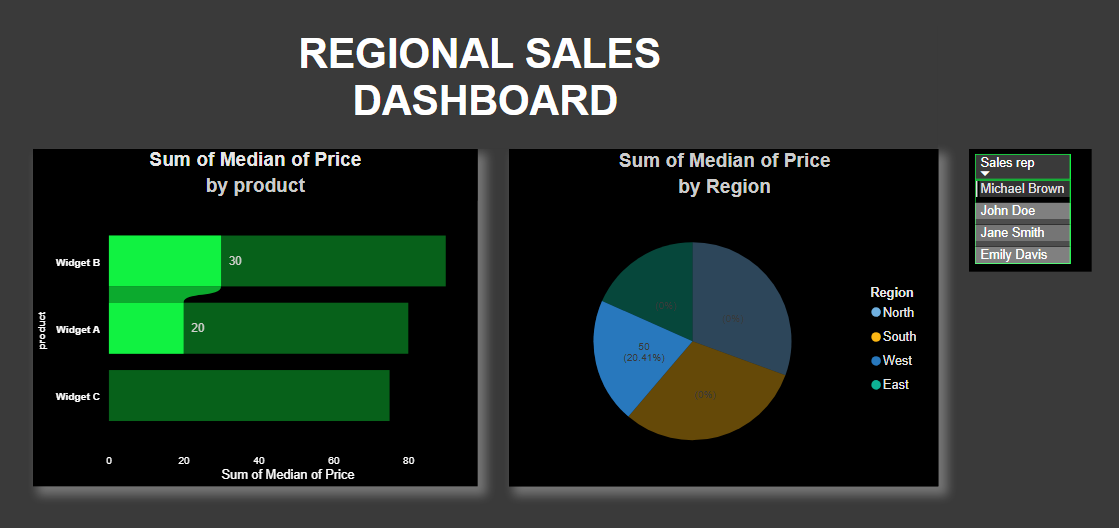

This screenshot's page, from the dashboard's own definition file:
{"tool":"powerbi","page":{"name":"Page 1","canvas":[1280,720],"ordinal":0},"visuals":[{"type":"pieChart","fields":{"Y":["Sum(Median of Price by Region and product.Median of Price)"],"Category":["Median of Price by Region and product.Region"]},"box":[608,192,448,352],"z":1},{"type":"barChart","fields":{"Y":["Sum(Median of Price by Region and product.Median of Price)"],"Category":["Median of Price by Region and product.product"]},"box":[112,192,464,352],"z":2},{"type":"tableEx","fields":{"Values":["Median of Price by Region and product.Sales rep"]},"box":[1088,192,128,128],"z":3},{"type":"textbox","box":[112,64,944,128],"z":4}]}

Visuals, with their boxes on the page's 1280x720 design canvas (x1, y1, x2, y2). These are canvas units, not pixel positions in the 1119x528 screenshot, which may show the page scaled, cropped or inside an application window:
pieChart - Sum(Median of Price by Region and product.Median of Price) x Median of Price by Region and product.Region: {"left": 608, "top": 192, "right": 1056, "bottom": 544}
barChart - Sum(Median of Price by Region and product.Median of Price) x Median of Price by Region and product.product: {"left": 112, "top": 192, "right": 576, "bottom": 544}
tableEx - Median of Price by Region and product.Sales rep: {"left": 1088, "top": 192, "right": 1216, "bottom": 320}
textbox: {"left": 112, "top": 64, "right": 1056, "bottom": 192}
